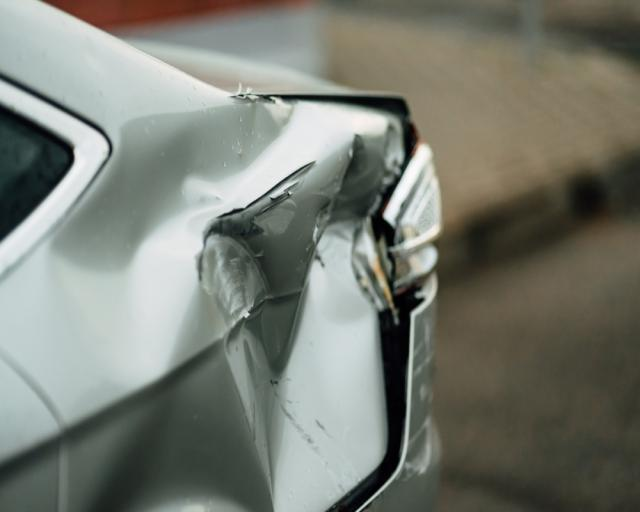dent: (56, 102, 399, 511)
